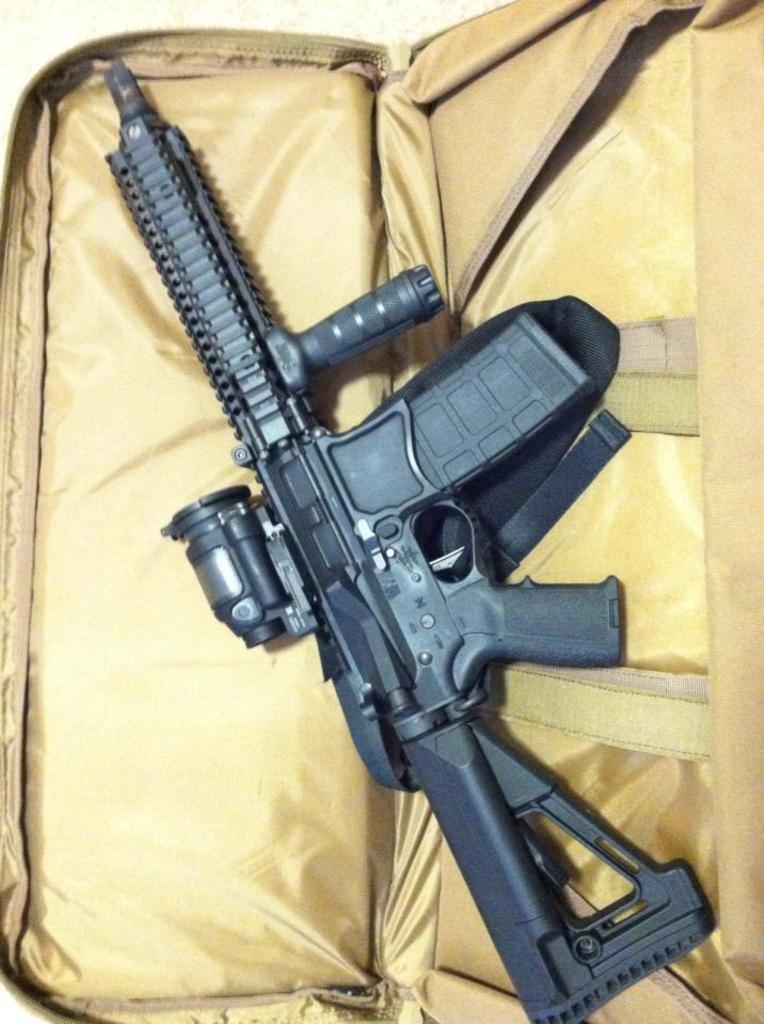gun: (101, 64, 723, 1024)
